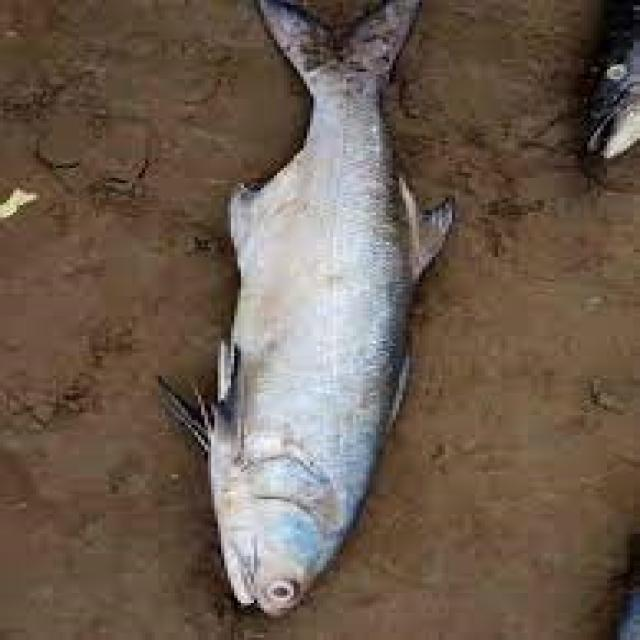Fourfinger-Threadfin: (176, 0, 519, 603)
